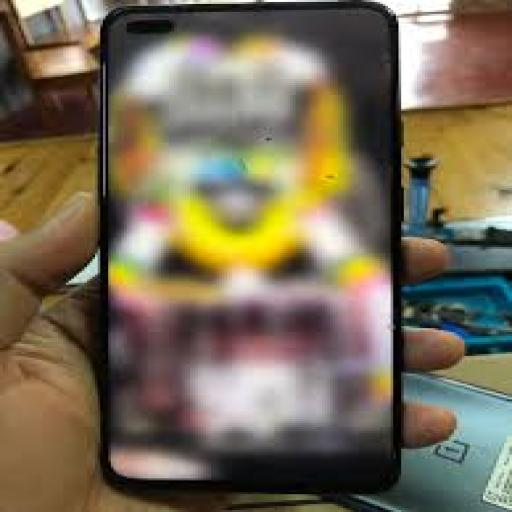phone: (102, 11, 432, 494)
